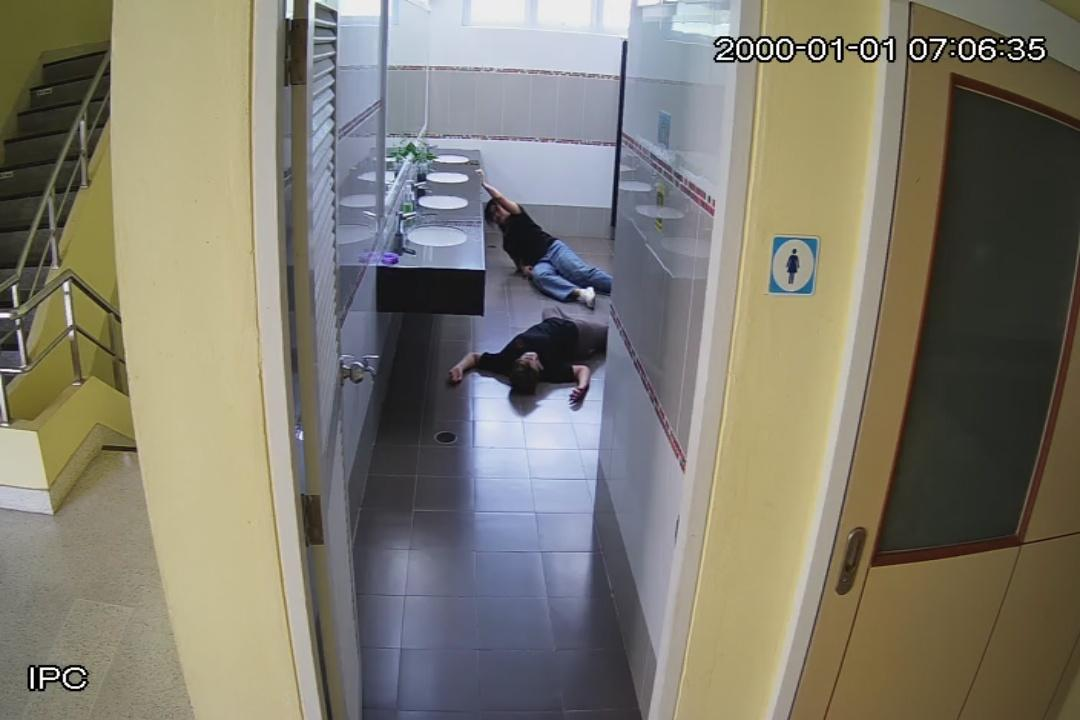fall: (476, 184, 618, 300), (448, 316, 620, 404)
